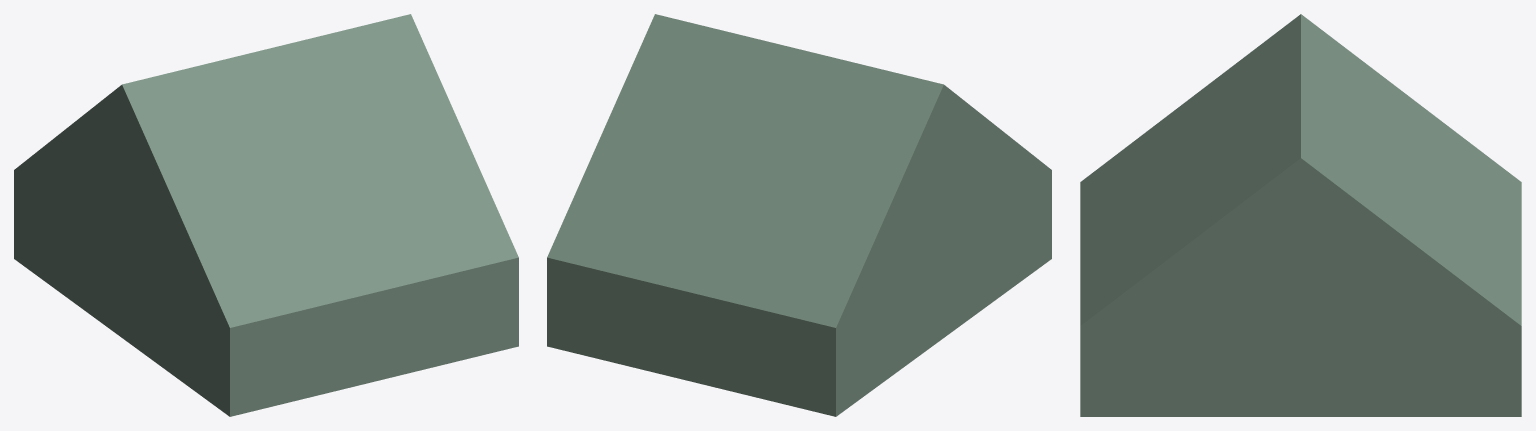
Rendered from ridge_cap_end.glb.
The picture shows the model from 3 angles, left to right: view 1: azimuth 30°, elevation 25°; view 2: azimuth 150°, elevation 25°; view 3: azimuth 270°, elevation 25°; orthographic projection. The views are drawn at different scales.
Parts seen in each view (by area): view 1: ridge_cap_end_ridge; view 2: ridge_cap_end_ridge; view 3: ridge_cap_end_ridge.
Boxes of the visible parts, bbox=[...] form: ridge_cap_end_ridge: bbox=[14, 14, 518, 416]; ridge_cap_end_ridge: bbox=[547, 14, 1051, 416]; ridge_cap_end_ridge: bbox=[1080, 14, 1521, 416].
Bounding box in the file's own units: 0.34 × 0.285 × 0.44.
